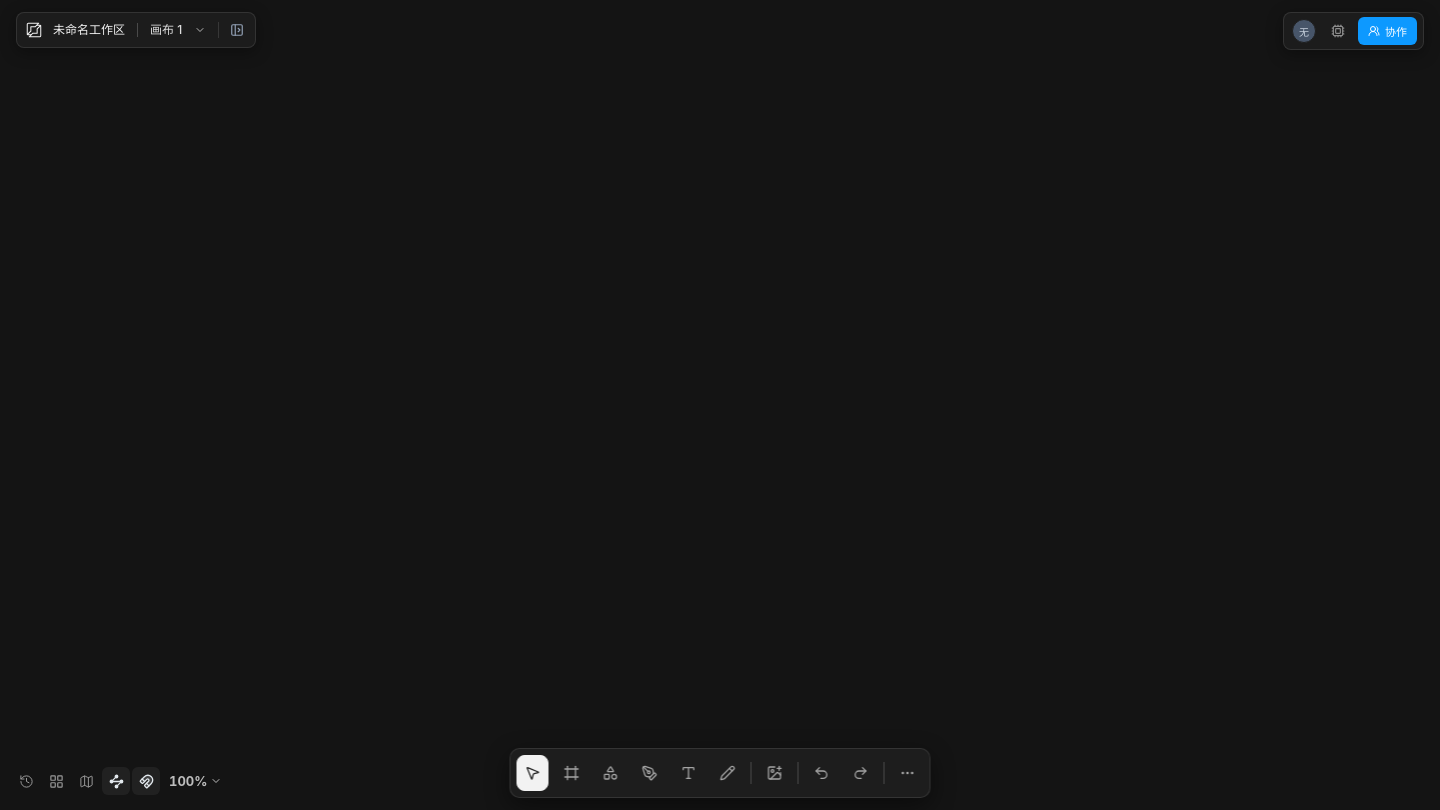
Test: canvas application integration › supports gateway-backed API, real collaboration entry, and Agent shells
Later steps or results of the test are not shown.
Click the button named "API 接入与模型".
click(1338, 31)  # box [1324,17,1352,45]
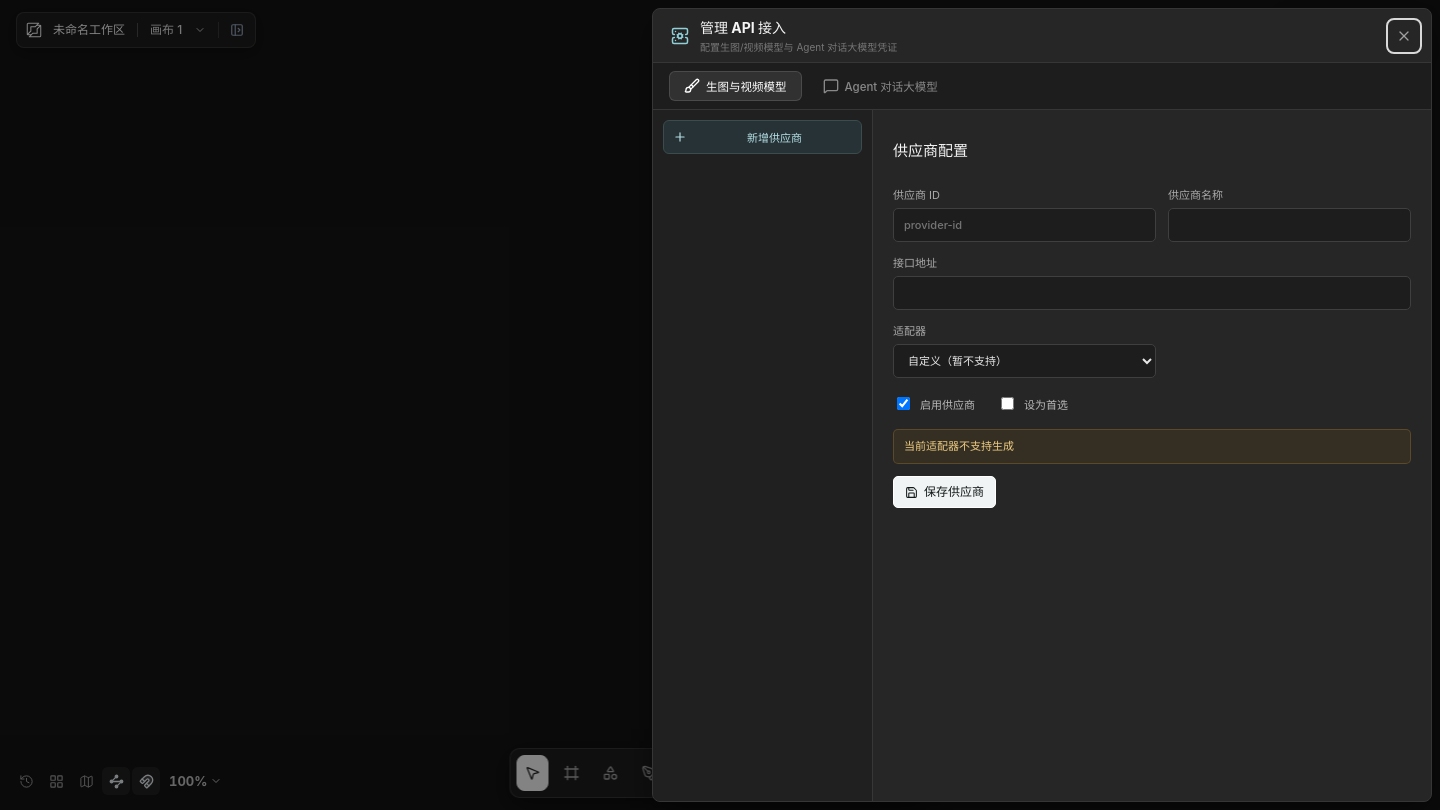
Expected: the dialog is shown, [652,8,1432,802]
